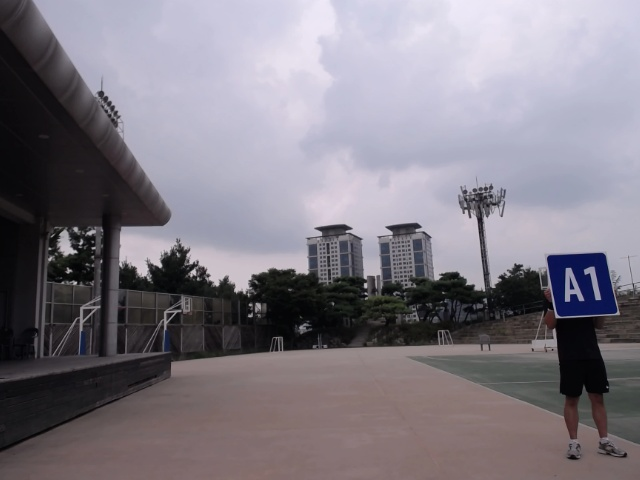delivery_a1: (546, 253, 619, 317)
